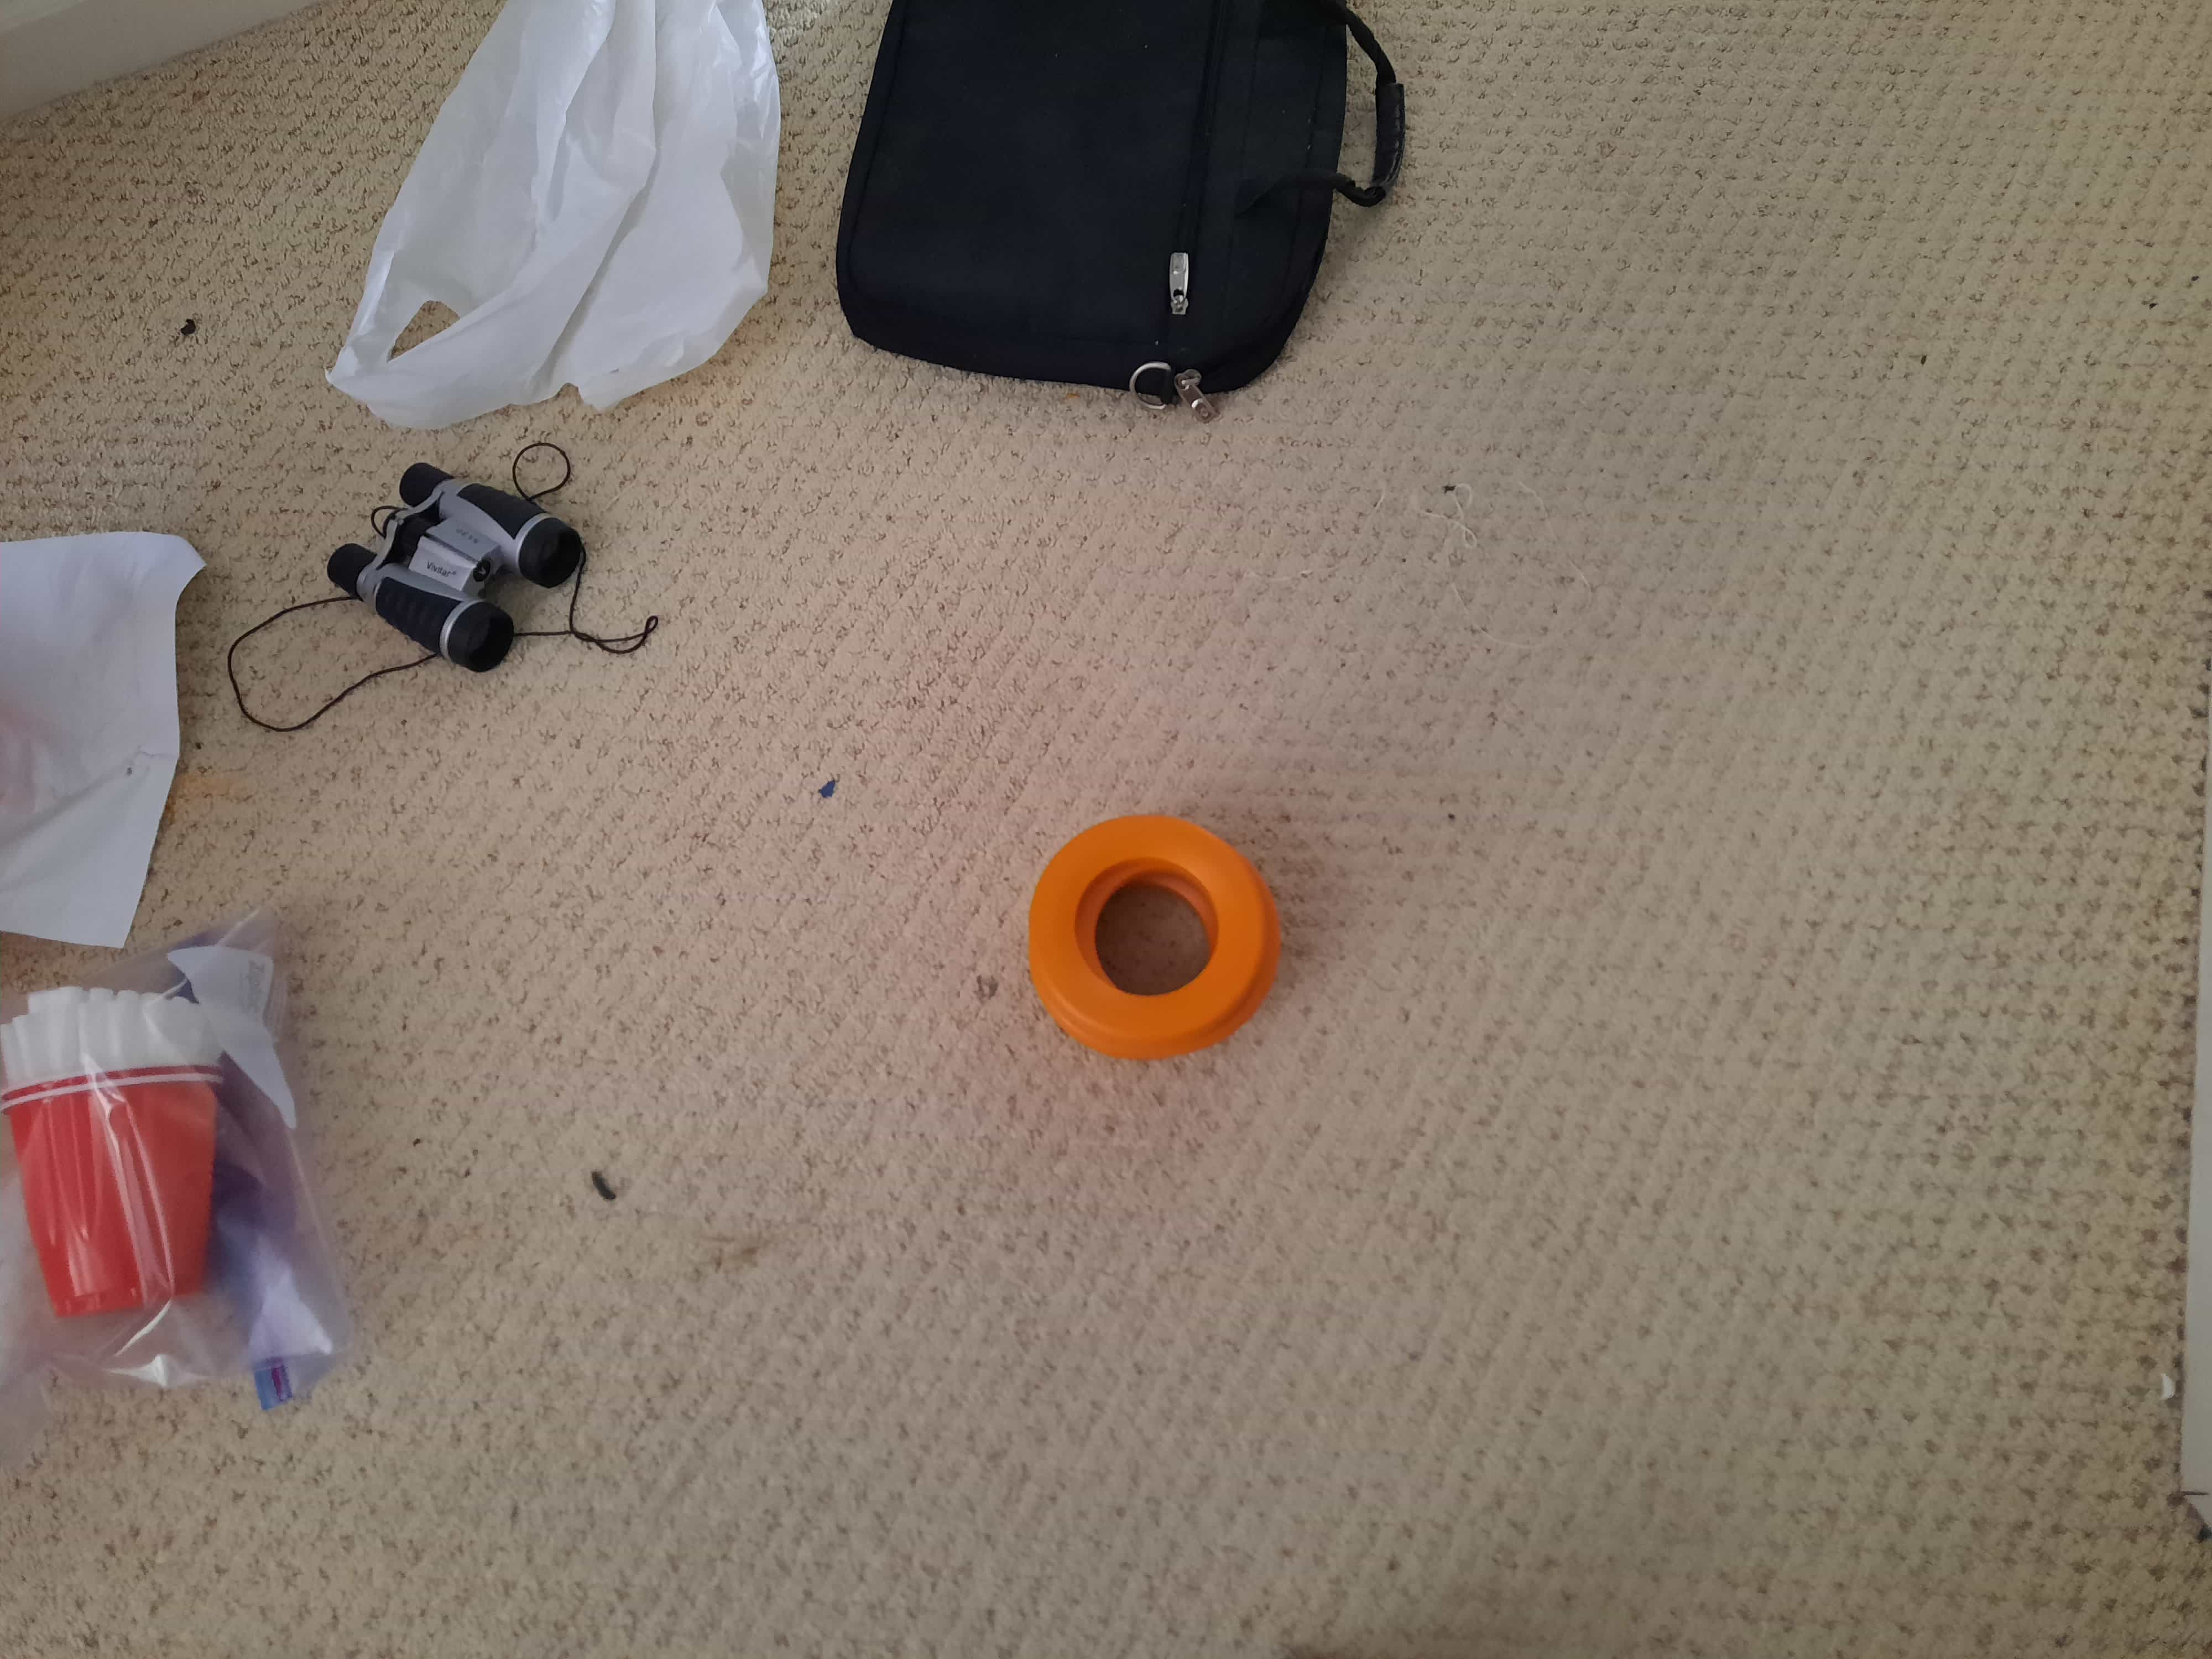FourStack: (1026, 807, 1278, 1061)
